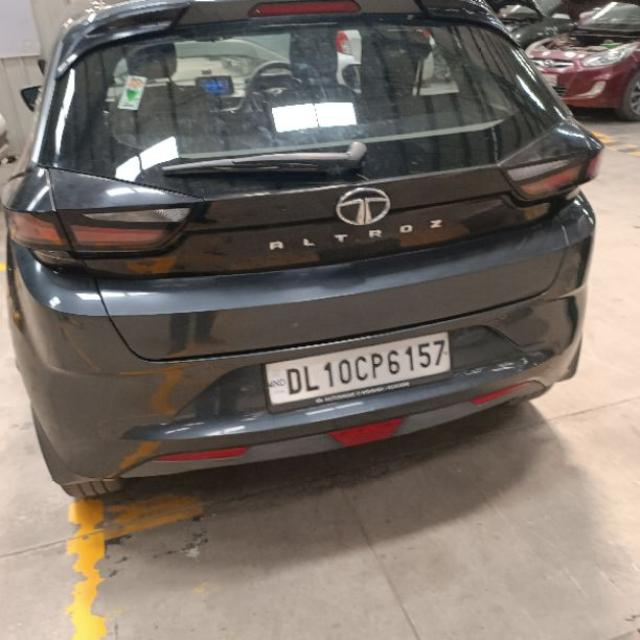license_plate: (260, 329, 452, 413)
